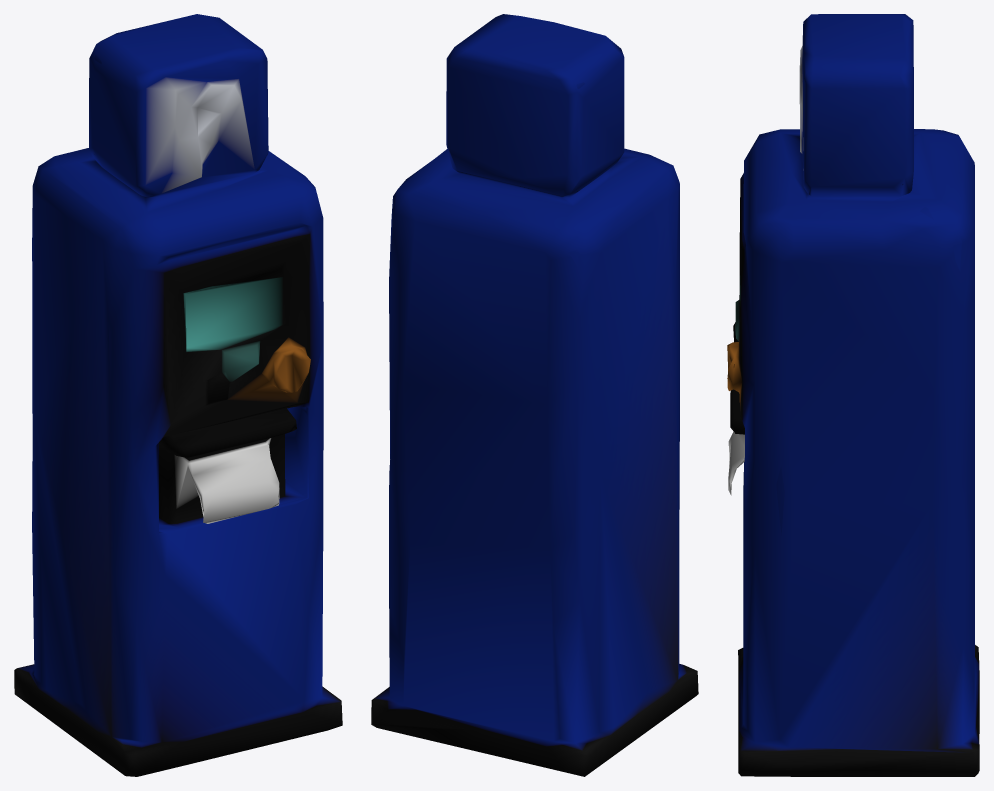
File: gen3d-ticket-machine-lod1.glb
The picture shows the model from 3 angles, left to right: view 1: azimuth 30°, elevation 25°; view 2: azimuth 150°, elevation 25°; view 3: azimuth 270°, elevation 25°; orthographic projection. The views are drawn at different scales.
Visible parts, largest first — view 1: part_0; view 2: part_0; view 3: part_0.
Boxes of the visible parts, x1,y1,x2,y2 form: part_0: [14, 14, 342, 776]; part_0: [371, 14, 698, 776]; part_0: [727, 14, 979, 776].
Size of the model in its own units: 0.3382 by 0.9999 by 0.3334.
